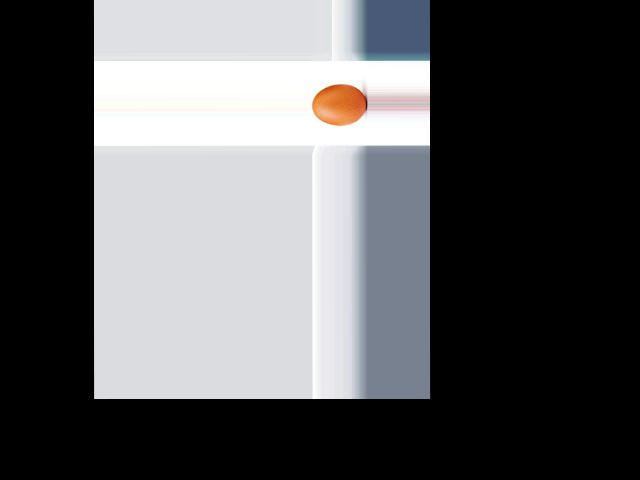egg: (312, 83, 366, 125)
